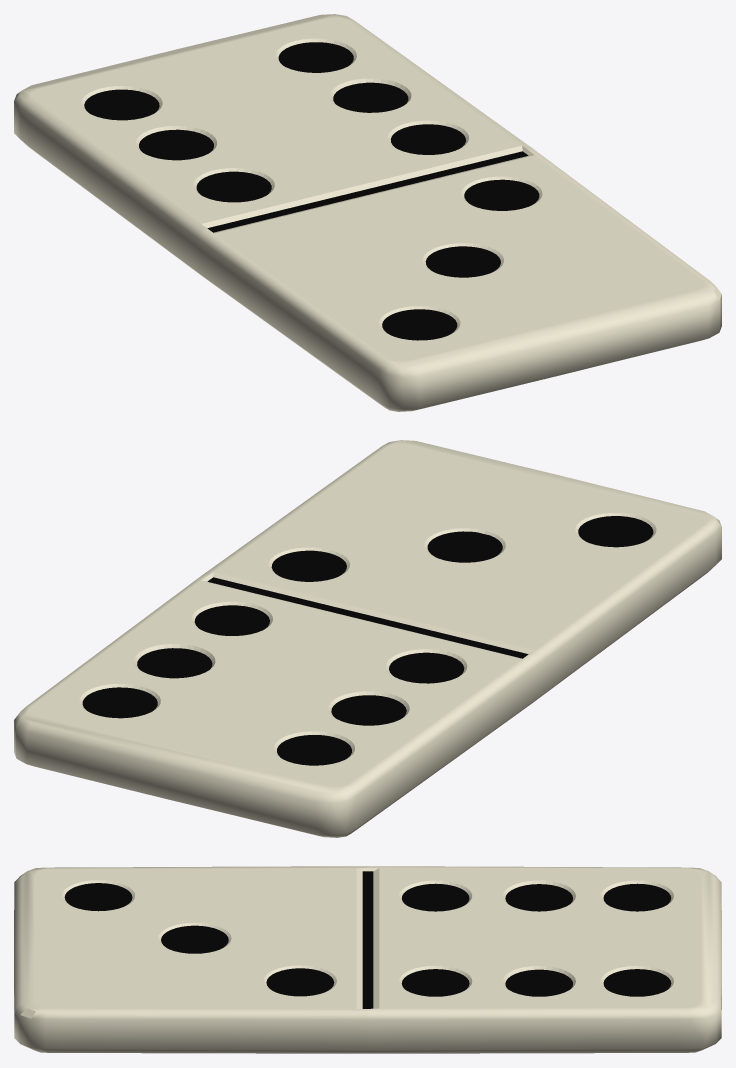
File: Domino_3_6.glb
3 renders of one model, top to bottom at view 1: azimuth 30°, elevation 25°; view 2: azimuth 150°, elevation 25°; view 3: azimuth 270°, elevation 25°, orthographic. The views are drawn at different scales.
Parts seen in each view (by area): view 1: Domino_3_6_A.001, Domino_3_6_B.001; view 2: Domino_3_6_B.001, Domino_3_6_A.001; view 3: Domino_3_6_A.001, Domino_3_6_B.001.
Part boxes in pixels (x1,y1,x2,y2): Domino_3_6_A.001: (197, 149, 721, 411); Domino_3_6_B.001: (14, 14, 533, 276); Domino_3_6_B.001: (14, 575, 538, 837); Domino_3_6_A.001: (202, 440, 721, 702); Domino_3_6_A.001: (14, 866, 367, 1053); Domino_3_6_B.001: (368, 866, 721, 1053).
Size of the model in its own units: 0.7725 by 0.1053 by 1.54.
